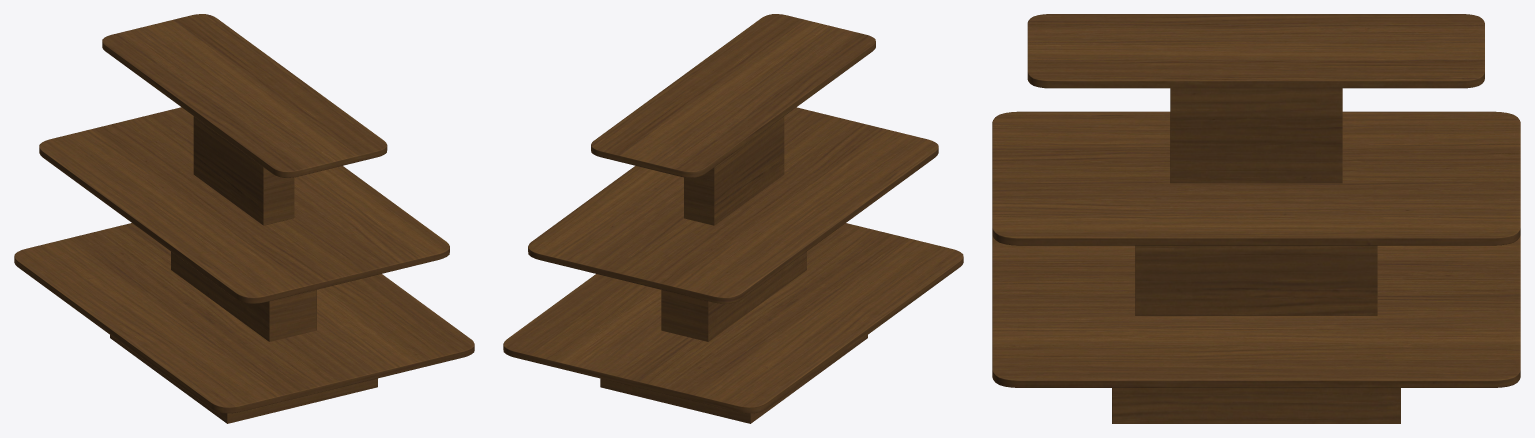
The model's file is threetierrecttable.fbx.
The picture shows the model from 3 angles, left to right: view 1: azimuth 30°, elevation 25°; view 2: azimuth 150°, elevation 25°; view 3: azimuth 270°, elevation 25°; orthographic projection. The views are drawn at different scales.
Visible parts, largest first — view 1: ttrt_bottom_table, ttrt_mid_table, ttrt_top_table, ttrt_top_support, ttrt_mid_support, ttrt_base; view 2: ttrt_bottom_table, ttrt_mid_table, ttrt_top_table, ttrt_top_support, ttrt_mid_support, ttrt_base; view 3: ttrt_mid_table, ttrt_bottom_table, ttrt_top_table, ttrt_mid_support, ttrt_top_support, ttrt_base.
Boxes of the visible parts, x1=… form: ttrt_bottom_table: x1=14, y1=223, x2=474, y2=413; ttrt_mid_table: x1=39, y1=107, x2=449, y2=303; ttrt_top_table: x1=102, y1=14, x2=387, y2=177; ttrt_top_support: x1=193, y1=116, x2=294, y2=225; ttrt_mid_support: x1=171, y1=251, x2=316, y2=341; ttrt_base: x1=110, y1=335, x2=377, y2=423; ttrt_bottom_table: x1=503, y1=223, x2=963, y2=413; ttrt_mid_table: x1=528, y1=107, x2=938, y2=303; ttrt_top_table: x1=591, y1=14, x2=875, y2=177; ttrt_top_support: x1=684, y1=116, x2=784, y2=225; ttrt_mid_support: x1=661, y1=252, x2=806, y2=341; ttrt_base: x1=600, y1=335, x2=867, y2=423; ttrt_mid_table: x1=992, y1=111, x2=1520, y2=245; ttrt_bottom_table: x1=992, y1=235, x2=1520, y2=387; ttrt_top_table: x1=1027, y1=14, x2=1484, y2=88; ttrt_mid_support: x1=1135, y1=245, x2=1377, y2=315; ttrt_top_support: x1=1170, y1=88, x2=1342, y2=183; ttrt_base: x1=1112, y1=388, x2=1400, y2=423.
Bounding box in the file's own units: 107 × 106 × 152.
1 material, 1 textured.
